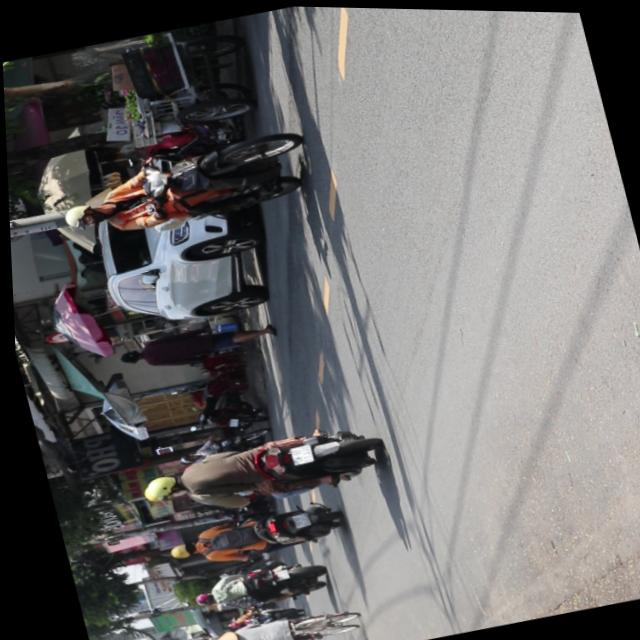helmet: (57, 197, 111, 232), (136, 469, 181, 501), (162, 537, 193, 559)
licenseplate: (44, 119, 317, 250), (128, 408, 387, 527), (156, 491, 344, 574)
nohelmet: (283, 441, 309, 463), (286, 509, 304, 525)
